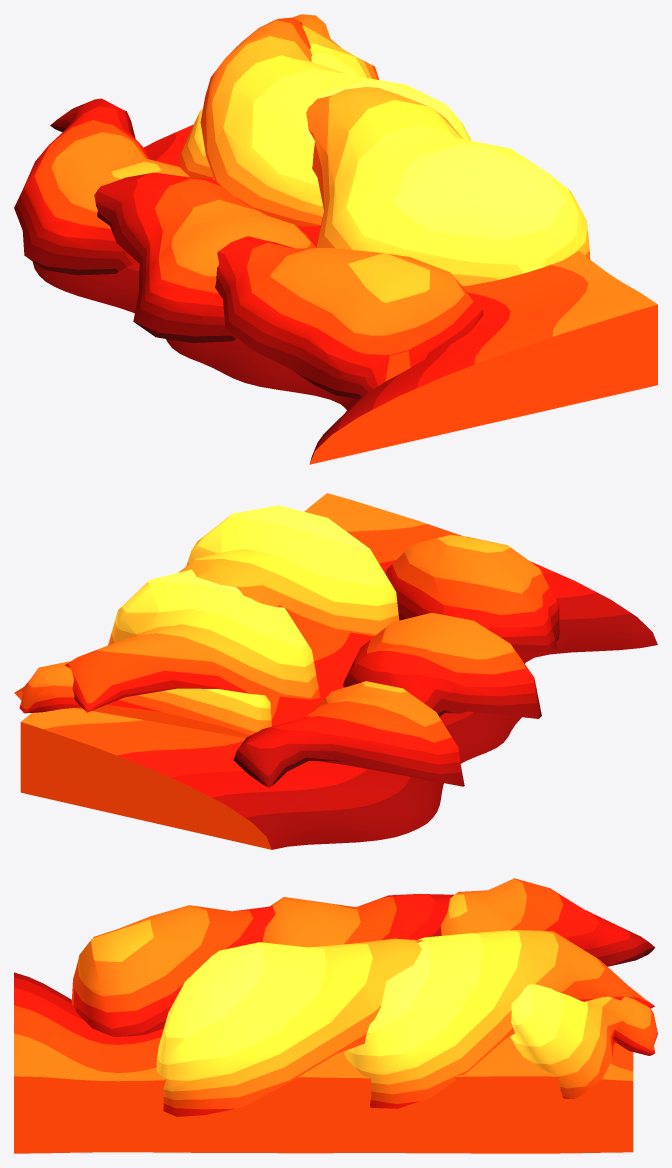
Rendered from fire_mid_l.glb.
3 renders of one model, top to bottom at view 1: azimuth 30°, elevation 25°; view 2: azimuth 150°, elevation 25°; view 3: azimuth 270°, elevation 25°, orthographic. The views are drawn at different scales.
Visible parts, largest first — view 1: fire_mid_l; view 2: fire_mid_l; view 3: fire_mid_l.
Part boxes in pixels (x1=…): fire_mid_l: x1=14, y1=14, x2=657, y2=464; fire_mid_l: x1=14, y1=493, x2=657, y2=849; fire_mid_l: x1=14, y1=878, x2=657, y2=1153.
Bounding box in the file's own units: 21.21 × 8.12 × 29.12.
